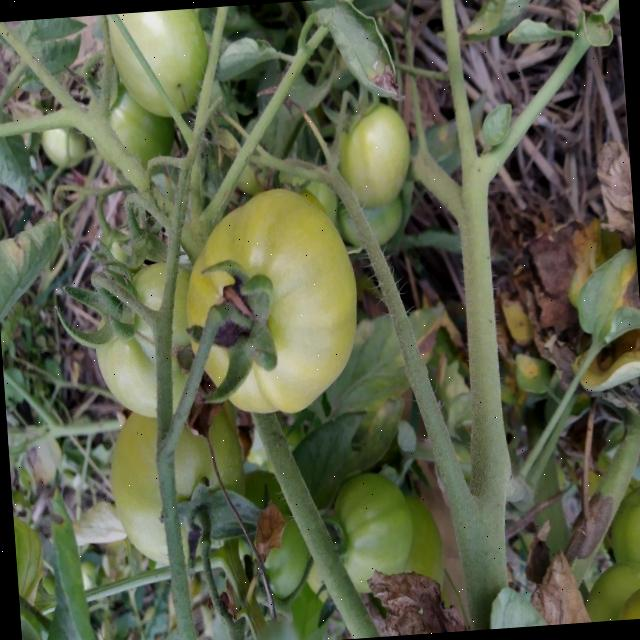Unripe: (176, 182, 363, 421)
